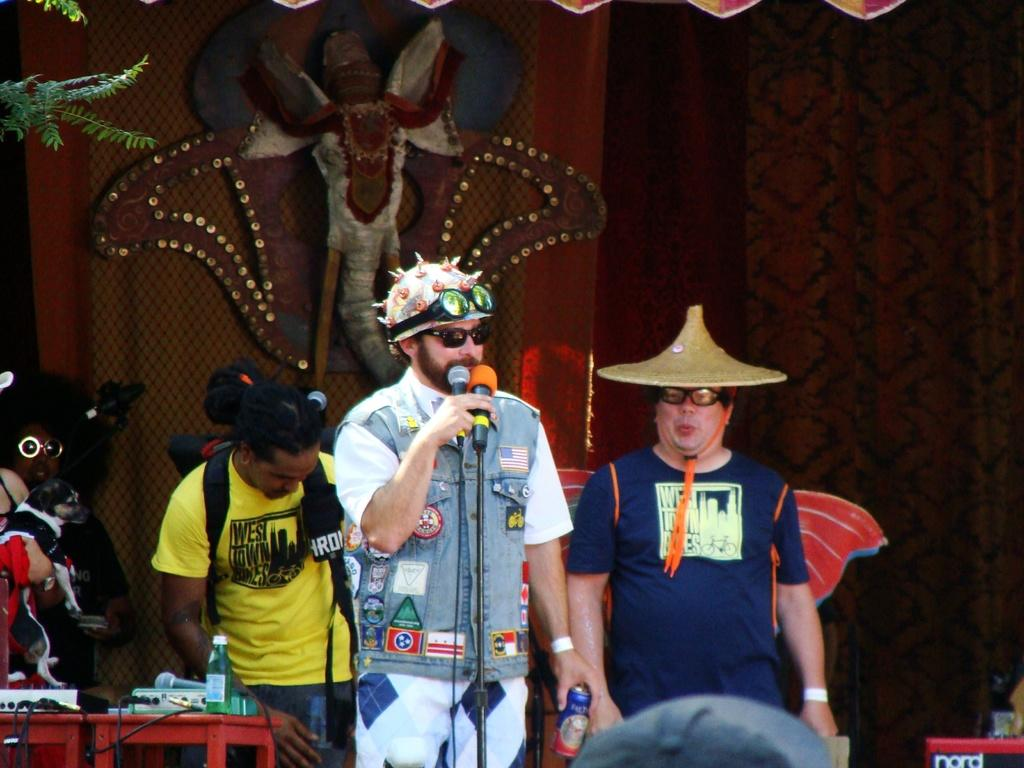Hat: (596, 304, 782, 385)
